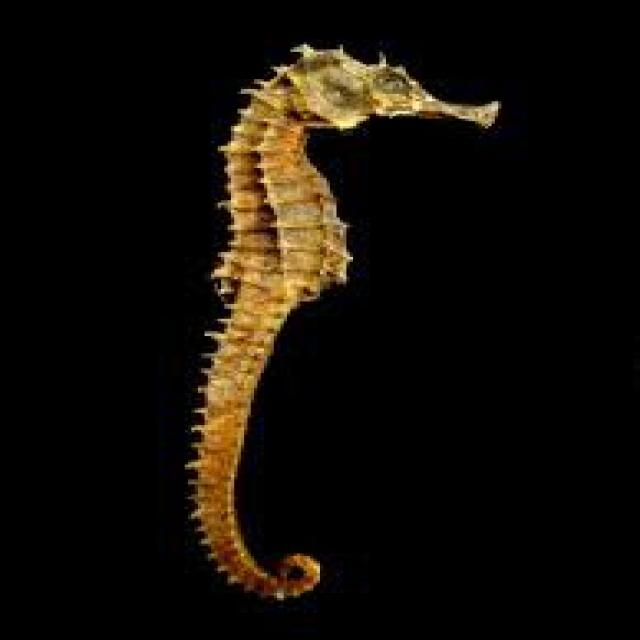seahorse: (188, 44, 495, 598)
